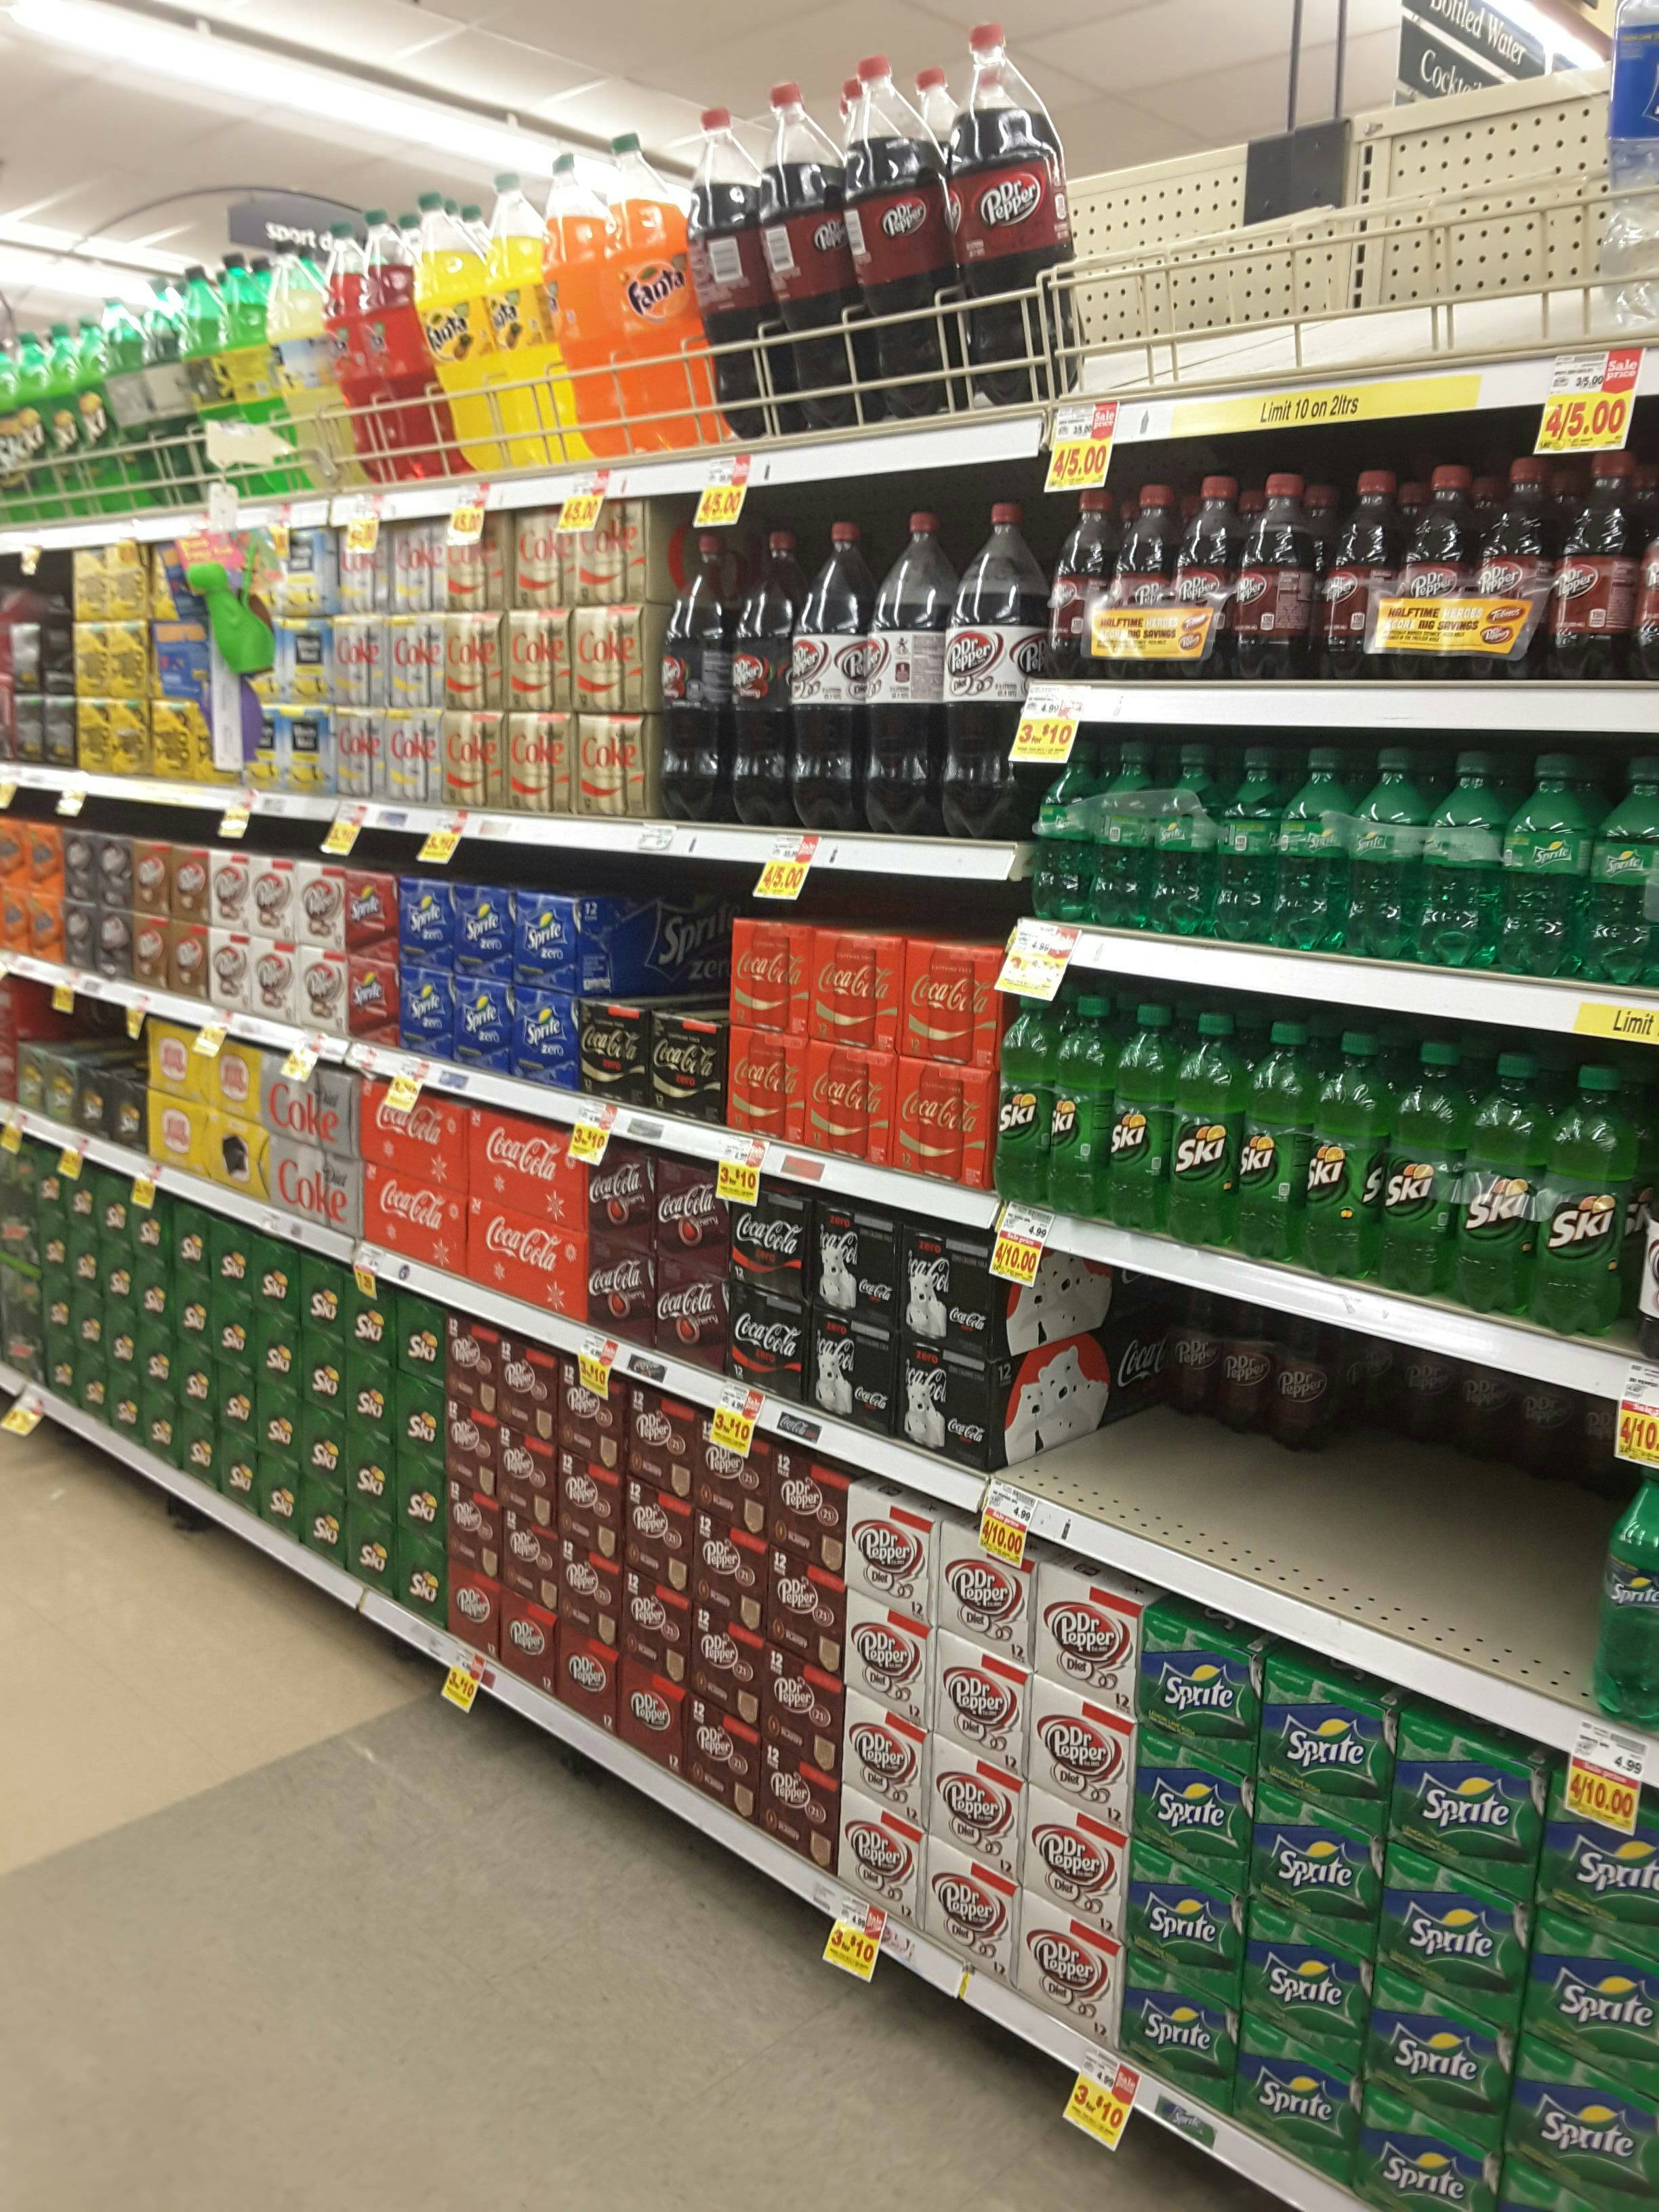Misplacement: (1011, 1303, 1352, 1585), (1366, 1334, 1605, 1714), (565, 895, 727, 1115)
Out-of-stock: (1079, 82, 1577, 409)
